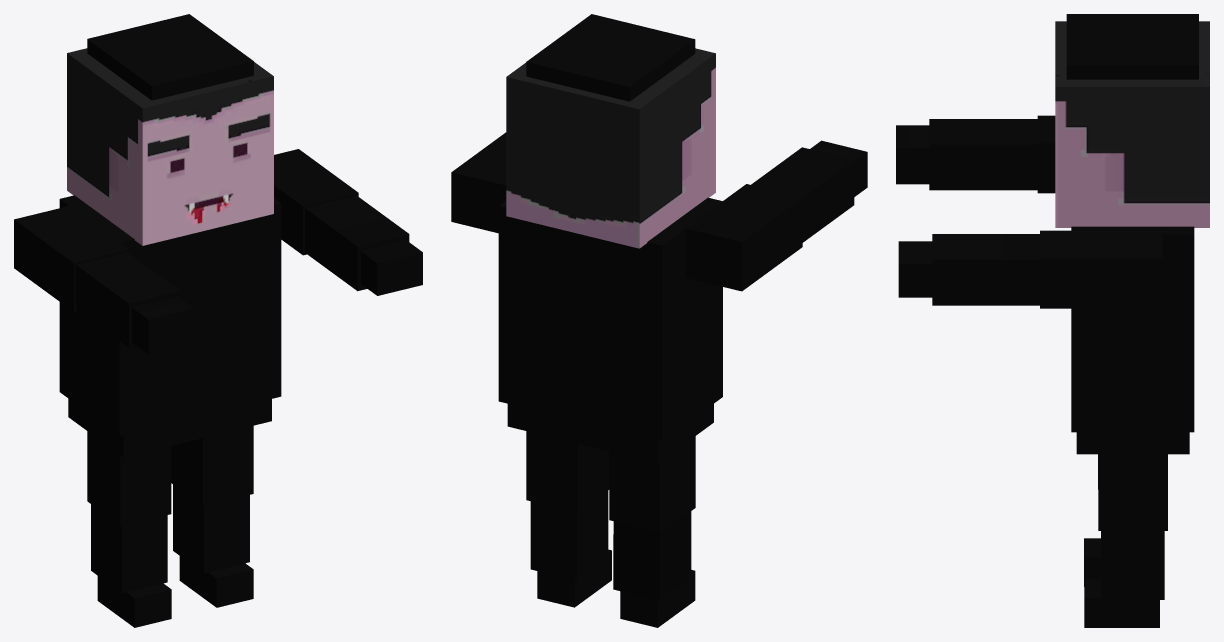
The model's file is zombie_halloween_3_parts.glb.
3 views of the same model, side by side, from view 1: azimuth 30°, elevation 25°; view 2: azimuth 150°, elevation 25°; view 3: azimuth 270°, elevation 25° (orthographic). The views are drawn at different scales.
Visible parts, largest first — view 1: part_head, part_body, part_hand_right, part_leg_right, part_leg_left, part_hand_left; view 2: part_body, part_head, part_hand_right, part_leg_right, part_leg_left, part_hand_left; view 3: part_head, part_body, part_hand_left, part_leg_left, part_hand_right, part_leg_right.
Boxes of the visible parts, <box> form: part_head: <box>67,14,273,245</box>; part_body: <box>59,195,281,457</box>; part_hand_right: <box>14,206,193,354</box>; part_leg_right: <box>87,431,171,627</box>; part_leg_left: <box>171,425,253,607</box>; part_hand_left: <box>274,149,422,295</box>; part_body: <box>498,197,722,463</box>; part_head: <box>506,14,715,248</box>; part_hand_right: <box>685,140,867,291</box>; part_leg_right: <box>609,436,695,627</box>; part_leg_left: <box>526,431,611,607</box>; part_hand_left: <box>451,132,506,233</box>; part_head: <box>1055,14,1209,227</box>; part_body: <box>1071,226,1194,454</box>; part_hand_left: <box>898,230,1162,308</box>; part_leg_left: <box>1084,454,1167,627</box>; part_hand_right: <box>896,115,1055,193</box>; part_leg_right: <box>1084,454,1100,586</box>.
Bounding box in the file's own units: 1.55 × 2.83 × 1.44.
1 material, 1 textured.
